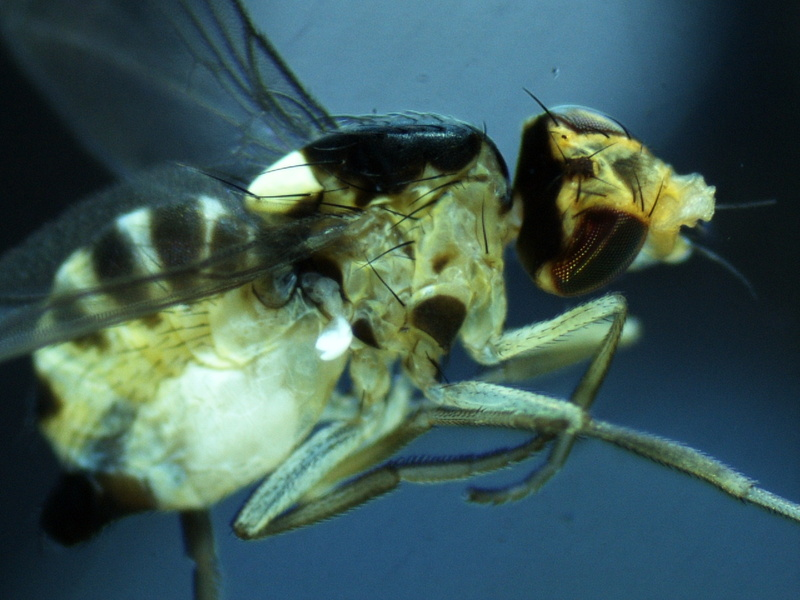Trifoli: (55, 65, 724, 534)
